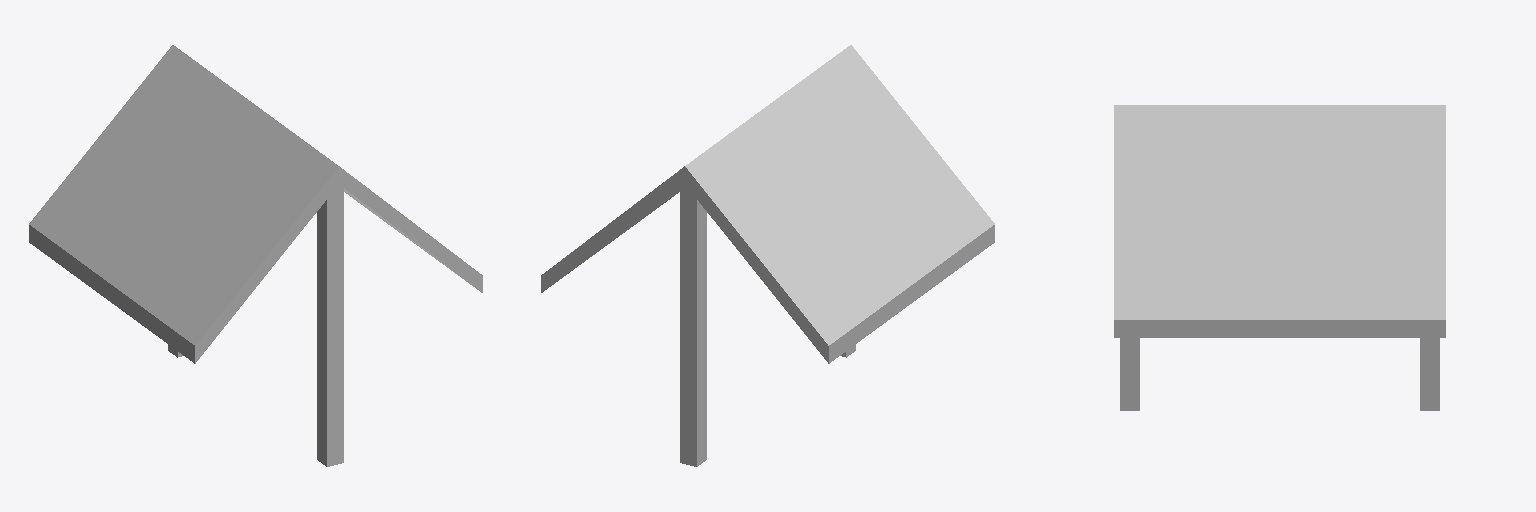
Rendered from wellroof.obj.
3 views of the same model, side by side, from view 1: azimuth 30°, elevation 25°; view 2: azimuth 150°, elevation 25°; view 3: azimuth 270°, elevation 25° (orthographic).
Visible parts, largest first — view 1: Cube.003, Cube_Cube.006; view 2: Cube.003, Cube.001_Cube.007; view 3: Cube.003, Cube_Cube.006, Cube.001_Cube.007.
Boxes of the visible parts, <box> form: Cube.003: <box>29,45,482,363</box>; Cube_Cube.006: <box>317,185,343,466</box>; Cube.003: <box>541,45,994,363</box>; Cube.001_Cube.007: <box>680,185,706,466</box>; Cube.003: <box>1114,105,1445,337</box>; Cube_Cube.006: <box>1120,338,1139,410</box>; Cube.001_Cube.007: <box>1420,338,1439,410</box>.
Size of the model in its own units: 1 by 1 by 1.